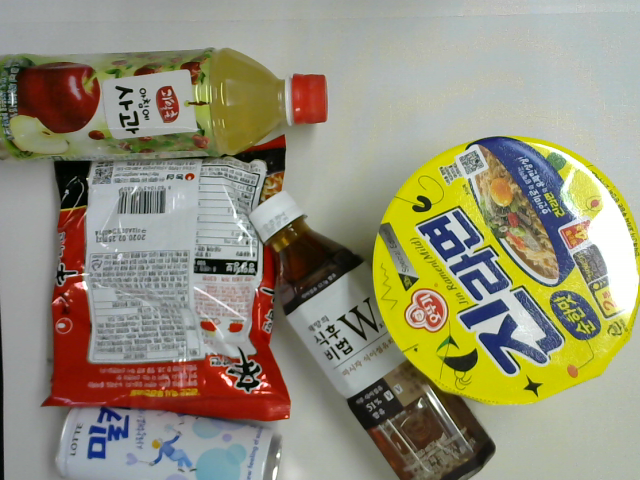Jinlamyeon_Mild_Taste_Large_Cup: (370, 132, 640, 413)
Milkies_250ml: (49, 404, 291, 480)
Morning_Apple_500ml: (1, 45, 333, 164)
Post-meal_recipe_W_tea_500ml: (244, 186, 498, 480)
Sinramen: (37, 134, 294, 430)
